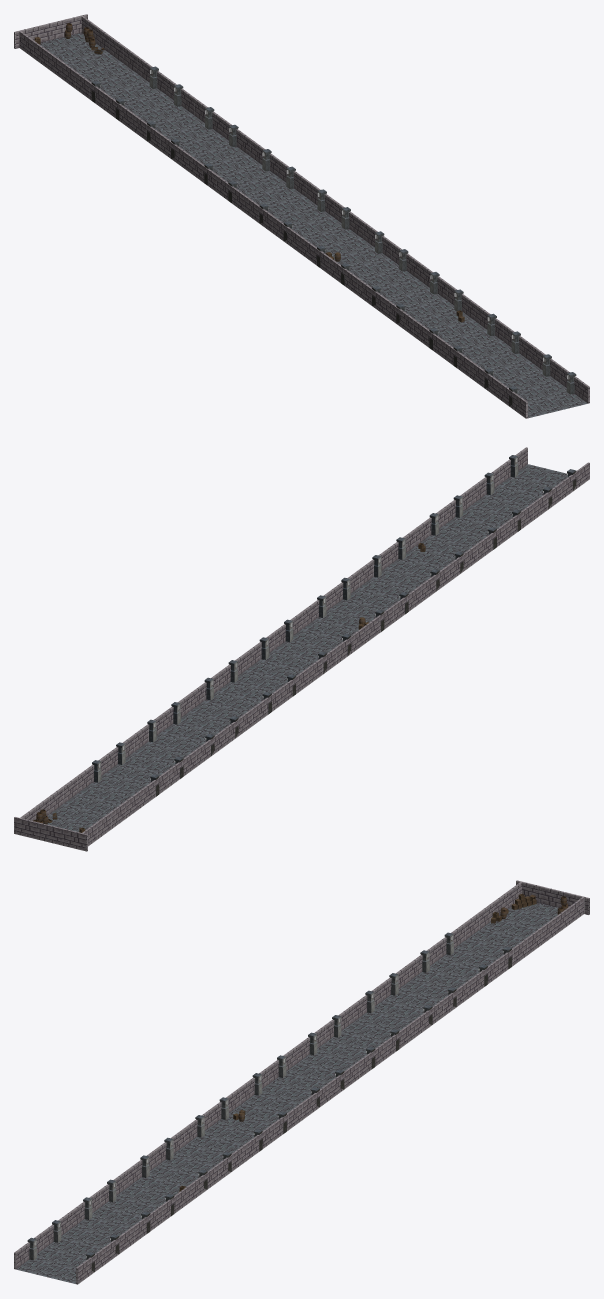
Rendered from map_xin.fbx.
3 renders of one model, top to bottom at view 1: azimuth 30°, elevation 25°; view 2: azimuth 150°, elevation 25°; view 3: azimuth 330°, elevation 25°, orthographic.
Visible parts, largest first — view 1: pCube8, pCube8.006, pCube8.005, pCube8.004, pCube8.008, Plane.013, Plane.031, Plane.023, Plane.027, Plane.025, Plane.029, Plane.014 (+20 smaller); view 2: pCube8.004, pCube8.006, pCube8.005, pCube8, pCube8.008, pCube8.007, Plane.031, Plane.030, Plane.026, Plane.020, Plane.028, Plane.024 (+19 smaller); view 3: pCube8, pCube8.004, pCube8.006, pCube8.005, pCube8.008, Plane.013, Plane.027, Plane.031, Plane.023, Plane.025, Plane.021, Plane.029 (+20 smaller).
Part boxes in pixels (x1,y1,x2,y2): pCube8: [413, 304, 589, 418]; pCube8.006: [75, 57, 251, 171]; pCube8.005: [188, 140, 363, 253]; pCube8.004: [301, 222, 476, 335]; pCube8.008: [19, 16, 139, 88]; Plane.013: [517, 383, 587, 418]; Plane.031: [66, 53, 137, 82]; Plane.023: [292, 218, 362, 247]; Plane.027: [179, 136, 249, 165]; Plane.025: [236, 177, 306, 206]; Plane.029: [124, 94, 193, 124]; Plane.014: [462, 342, 531, 371]; pCube8.004: [301, 529, 477, 643]; pCube8.006: [76, 694, 252, 808]; pCube8.005: [189, 612, 364, 725]; pCube8: [414, 447, 589, 561]; pCube8.008: [20, 776, 139, 846]; pCube8.007: [14, 817, 87, 851]; Plane.031: [50, 793, 120, 824]; Plane.030: [78, 773, 149, 803]; Plane.026: [190, 690, 261, 720]; Plane.020: [359, 567, 430, 597]; Plane.028: [134, 731, 205, 761]; Plane.024: [247, 649, 317, 679]; pCube8: [14, 1170, 190, 1284]; pCube8.004: [127, 1088, 302, 1201]; pCube8.006: [352, 923, 527, 1037]; pCube8.005: [239, 1005, 415, 1119]; pCube8.008: [464, 882, 584, 954]; Plane.013: [16, 1249, 86, 1283]; Plane.027: [353, 1002, 424, 1031]; Plane.031: [466, 921, 536, 948]; Plane.023: [241, 1084, 311, 1113]; Plane.025: [297, 1043, 366, 1072]; Plane.021: [185, 1125, 254, 1155]; Plane.029: [410, 961, 479, 990].
Size of the model in its own units: 93.61 by 23.72 by 1125.
